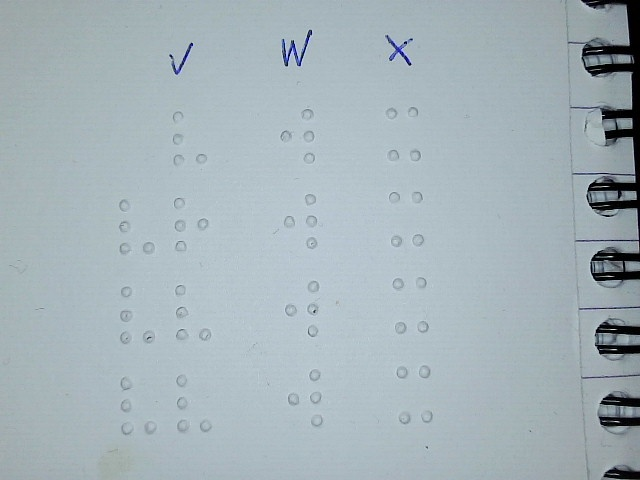V: (118, 375, 158, 436), (173, 372, 213, 433), (171, 109, 209, 166), (117, 198, 155, 255)
W: (286, 367, 324, 427), (279, 107, 317, 164), (281, 192, 319, 249), (283, 280, 321, 337)
X: (392, 274, 430, 335), (395, 364, 433, 425), (384, 105, 422, 162), (387, 190, 425, 247)
